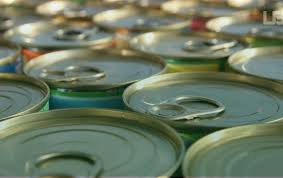can: (1, 1, 283, 178)
